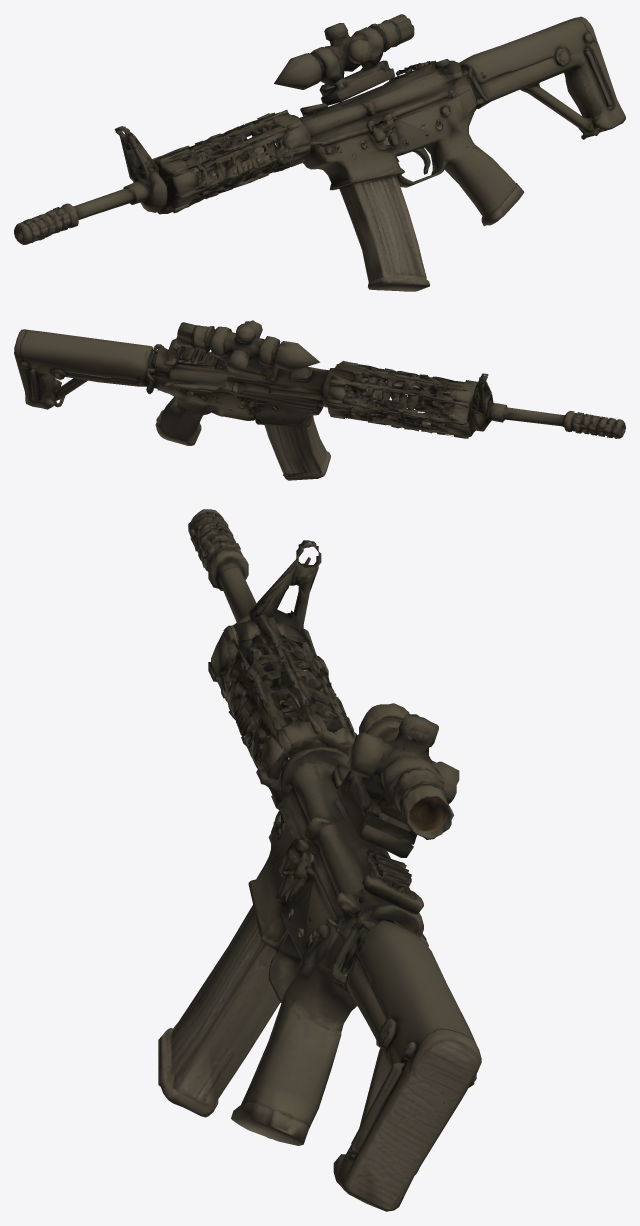
Rendered from mer_assault_rifle.glb.
The picture shows the model from 3 angles, top to bottom: view 1: azimuth 30°, elevation 25°; view 2: azimuth 150°, elevation 25°; view 3: azimuth 270°, elevation 25°; orthographic projection. The views are drawn at different scales.
Visible parts, largest first — view 1: tripo_node_cba70034-4cd7-456c-9bc8-af55f574e1a5; view 2: tripo_node_cba70034-4cd7-456c-9bc8-af55f574e1a5; view 3: tripo_node_cba70034-4cd7-456c-9bc8-af55f574e1a5.
Boxes of the visible parts, x1,y1,x2,y2 form: tripo_node_cba70034-4cd7-456c-9bc8-af55f574e1a5: (14,14,625,291); tripo_node_cba70034-4cd7-456c-9bc8-af55f574e1a5: (14,320,625,480); tripo_node_cba70034-4cd7-456c-9bc8-af55f574e1a5: (158,509,481,1211).
Bounding box in the file's own units: 0.998 × 0.334 × 0.252.
1 material, 1 textured.
